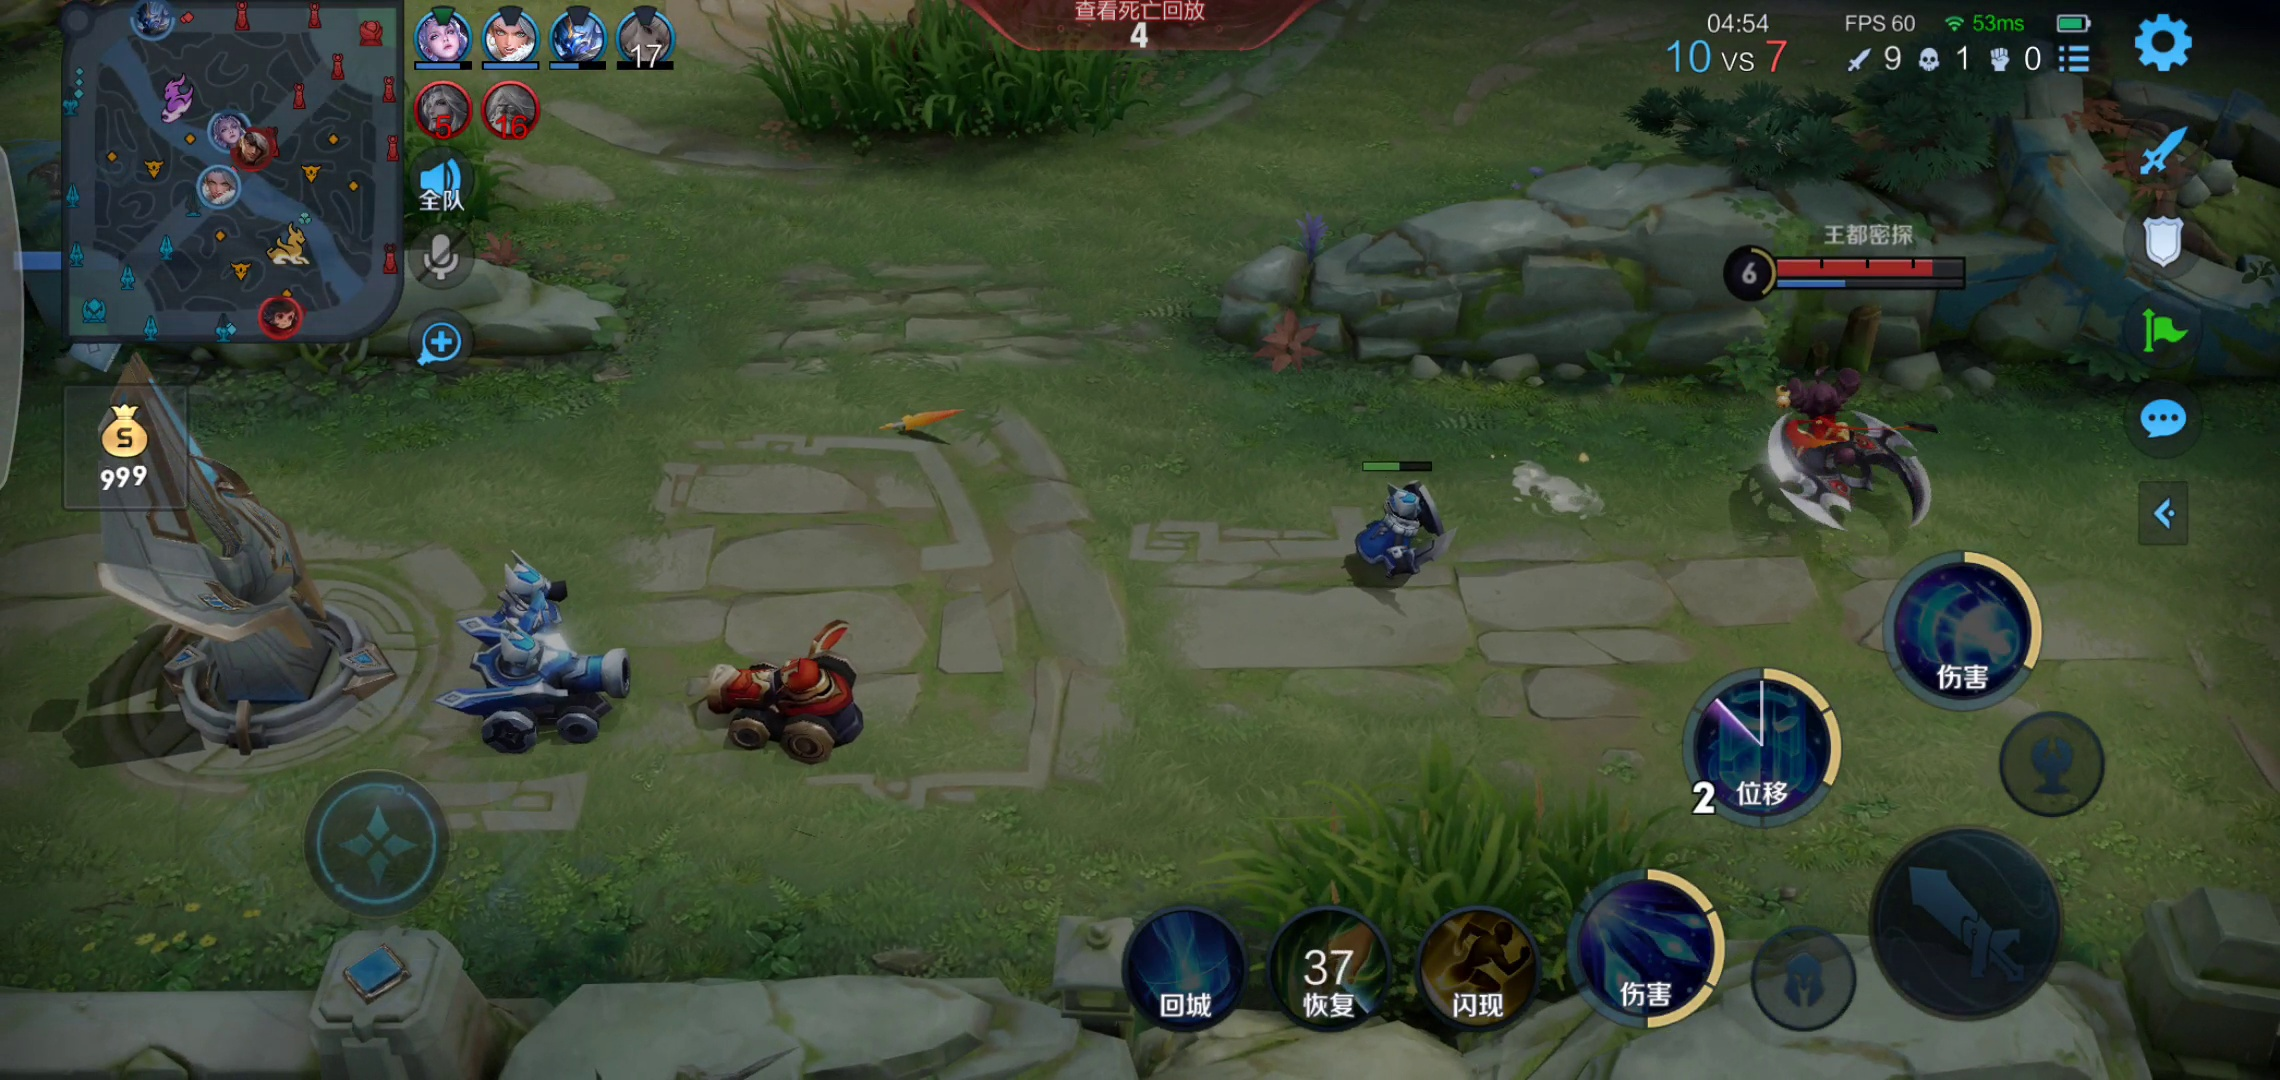grass: (1237, 781, 1698, 1007), (728, 4, 1195, 142)
hero: (1767, 362, 1928, 541)
soldier: (683, 619, 899, 767), (459, 647, 630, 741), (1335, 470, 1457, 589), (457, 561, 599, 648)
tower: (52, 366, 406, 751)
